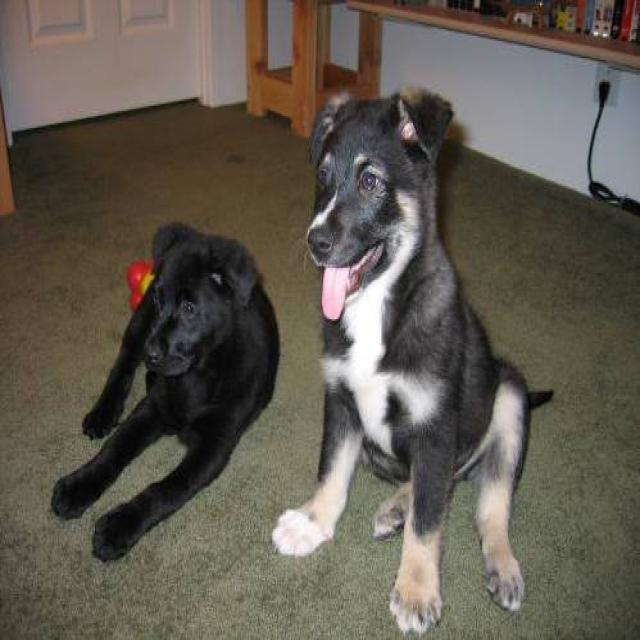Dog: (286, 64, 471, 332), (129, 182, 268, 400)
